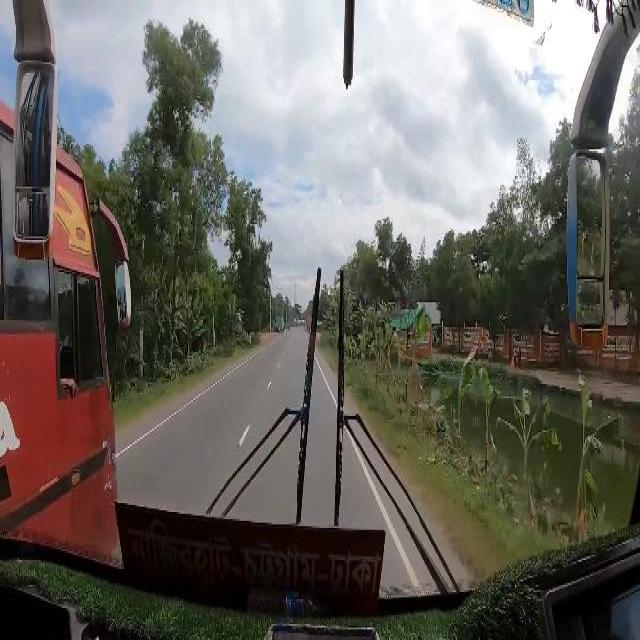bus: (2, 111, 132, 561)
